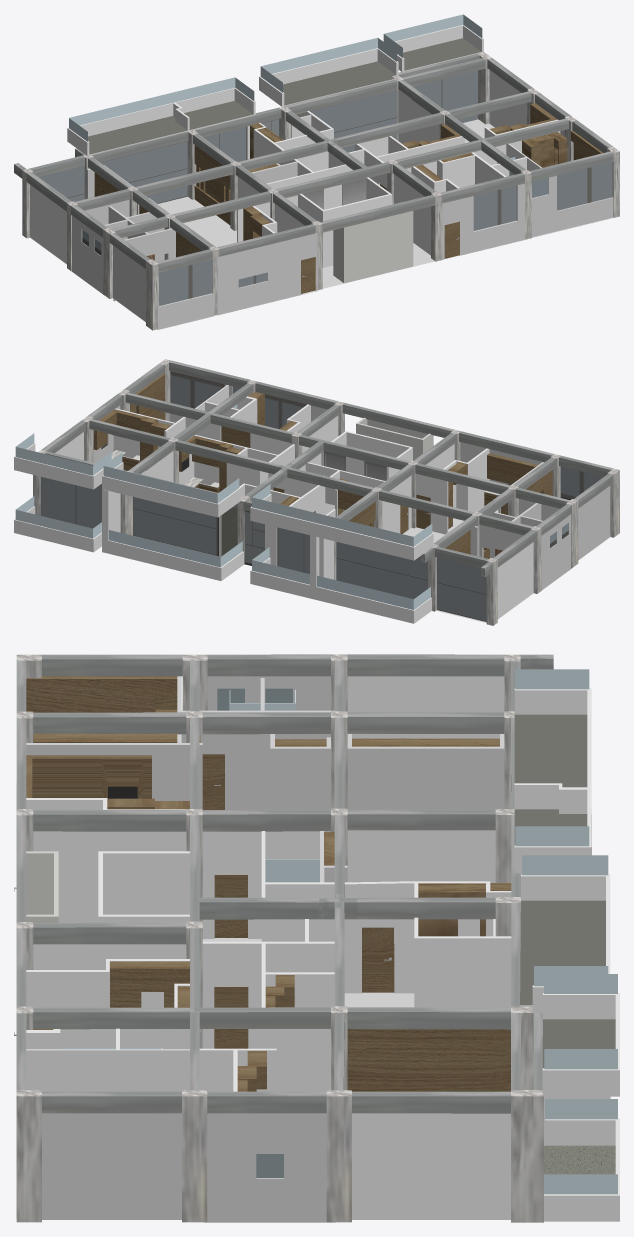
File: DepRetopUpdate2b.gltf
3 renders of one model, top to bottom at view 1: azimuth 30°, elevation 25°; view 2: azimuth 150°, elevation 25°; view 3: azimuth 270°, elevation 25°, orthographic. The views are drawn at different scales.
Parts seen in each view (by area): view 1: VigasCol, BalconBase03_Sup, ParedesF004, ParedElevador02, BalconBase02_Sup, ParedMid01, EntradaBalcon.003, ParedesF003, Piso, BalconBase01_Sup, EntradaBalcon.002, ParedF001 (+31 smaller); view 2: VigasCol, ParedMid01, BalconBase03_Inf, EntradaBalcon.003, EntradaBalcon.002, BalconBase02_Inf, BalconBase03_Sup, VentanaBalcon, EntradaBalcon.001, ParedMid04, ParedInf04, CristalBalcon03_Sup (+38 smaller); view 3: VigasCol, ParedMid01, ParedExterior01, ParedExterior03, Pared.001, BalconBase03_Sup, ParedInf04, ParedInf02, MuebleTV, ParedTop01, BalconBase02_Sup, ParedMid02 (+31 smaller).
Part boxes in pixels (box(x1,y1,x2,y2)): VigasCol: box(14, 52, 619, 330); BalconBase03_Sup: box(67, 87, 255, 155); ParedesF004: box(217, 233, 317, 315); ParedElevador02: box(333, 211, 413, 283); BalconBase02_Sup: box(259, 48, 398, 106); ParedMid01: box(237, 111, 364, 206); EntradaBalcon.003: box(100, 141, 187, 203); ParedesF003: box(442, 183, 524, 259); Piso: box(30, 119, 613, 322); BalconBase01_Sup: box(395, 25, 483, 71); EntradaBalcon.002: box(310, 90, 396, 152); ParedF001: box(532, 175, 613, 237); VigasCol: box(33, 359, 619, 625); ParedMid01: box(219, 462, 411, 565); BalconBase03_Inf: box(250, 535, 431, 623); EntradaBalcon.003: box(336, 542, 427, 599); EntradaBalcon.002: box(133, 497, 218, 556); BalconBase02_Inf: box(102, 489, 243, 580); BalconBase03_Sup: box(250, 494, 433, 560); VentanaBalcon: box(437, 557, 486, 621); EntradaBalcon.001: box(40, 477, 101, 528); ParedMid04: box(416, 448, 489, 534); ParedInf04: box(179, 434, 294, 486); CristalBalcon03_Sup: box(252, 484, 432, 546); VigasCol: box(16, 654, 553, 1222); ParedMid01: box(202, 831, 511, 1007); ParedExterior01: box(352, 1113, 510, 1219); ParedExterior03: box(42, 1113, 181, 1219); Pared.001: box(204, 1113, 335, 1222); BalconBase03_Sup: box(514, 688, 591, 873); ParedInf04: box(202, 941, 334, 1091); ParedInf02: box(26, 983, 189, 1091); MuebleTV: box(347, 1029, 510, 1091); ParedTop01: box(347, 734, 504, 809); BalconBase02_Sup: box(520, 874, 610, 1013); ParedMid02: box(347, 830, 495, 882).
Size of the model in its own units: 31.98 by 5.95 by 18.53.
19 materials, 16 textured.
